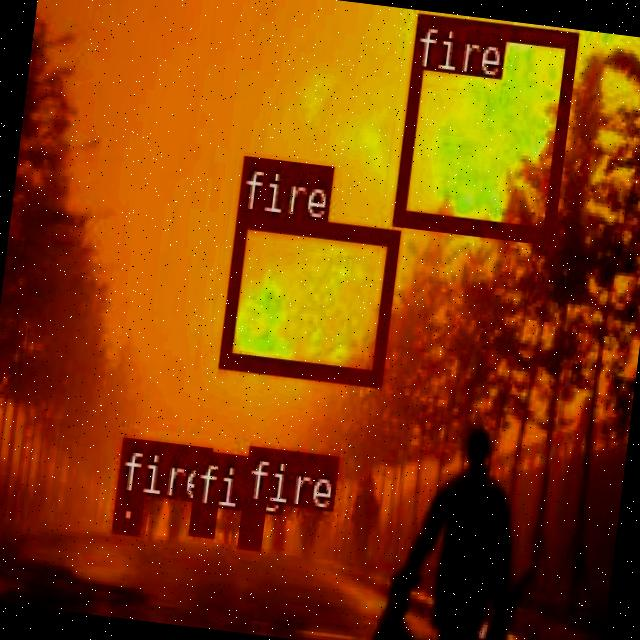fire: (390, 11, 575, 240), (216, 208, 399, 384), (236, 499, 262, 546), (112, 492, 140, 530), (188, 501, 215, 535)
